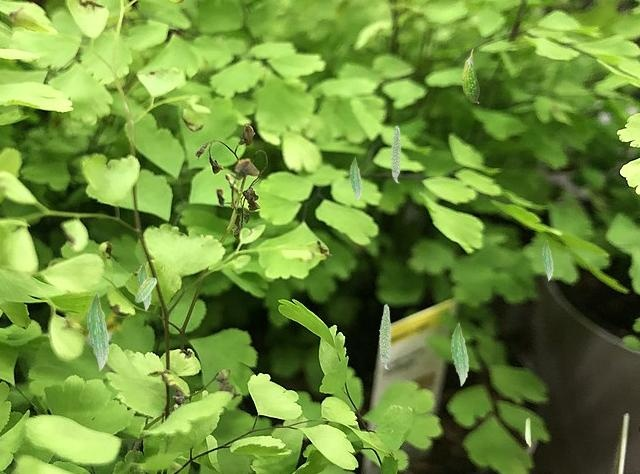ampalaya: (87, 292, 109, 371), (450, 322, 469, 386), (460, 48, 480, 103), (378, 303, 391, 369), (137, 262, 151, 311), (390, 125, 401, 183), (134, 277, 157, 303), (349, 157, 362, 202), (541, 239, 553, 281), (525, 416, 531, 447)
